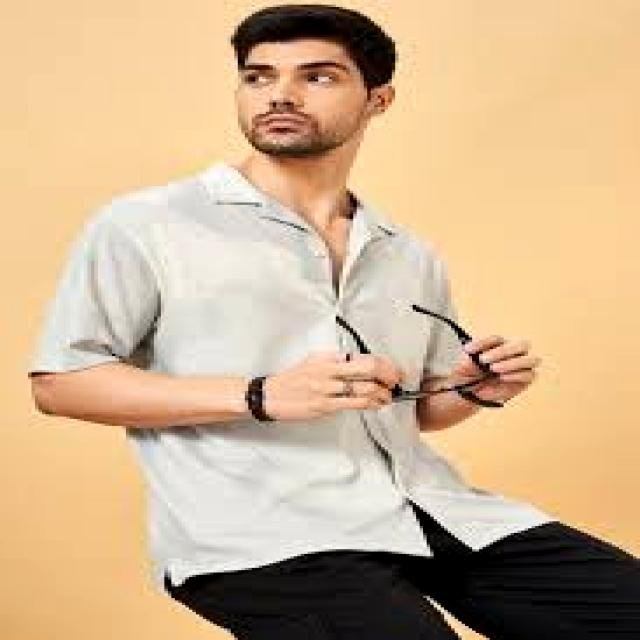face: (235, 40, 391, 158)
lower-wear: (165, 503, 639, 639)
top-wear: (28, 163, 461, 388)
